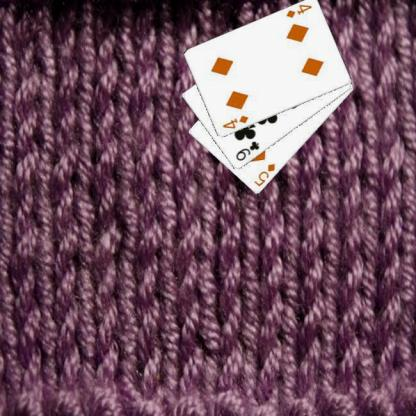4D: (220, 113, 250, 130), (283, 2, 313, 19)
5D: (252, 161, 276, 188)
9C: (233, 138, 260, 163)
